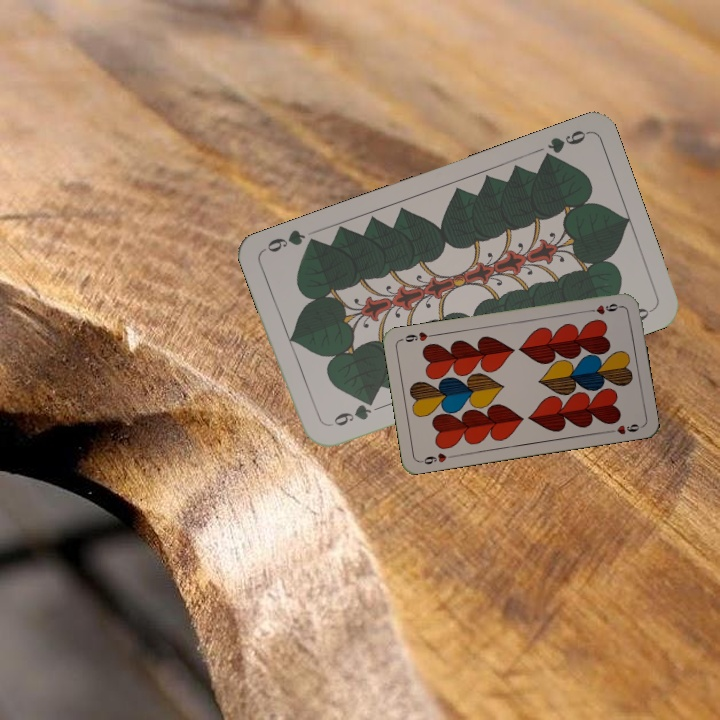G9: (537, 126, 591, 165), (324, 395, 377, 429)
H9: (416, 449, 457, 467), (584, 299, 624, 317)
